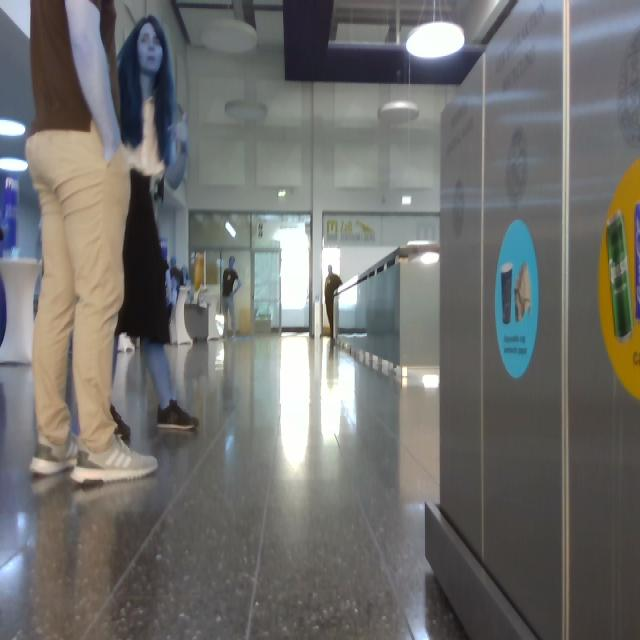door: (191, 215, 310, 336)
light bulb: (407, 22, 465, 60), (202, 18, 256, 54), (379, 101, 420, 124), (226, 101, 269, 122), (1, 120, 25, 136), (1, 159, 29, 172), (420, 252, 439, 265), (226, 221, 237, 238)
person: (27, 1, 158, 482), (222, 257, 242, 336), (325, 266, 342, 344)
table: (1, 259, 42, 364)
tiled floor: (1, 334, 465, 639)
trash bin: (427, 2, 640, 639)
